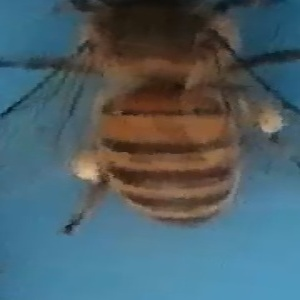bee: (28, 1, 298, 237)
